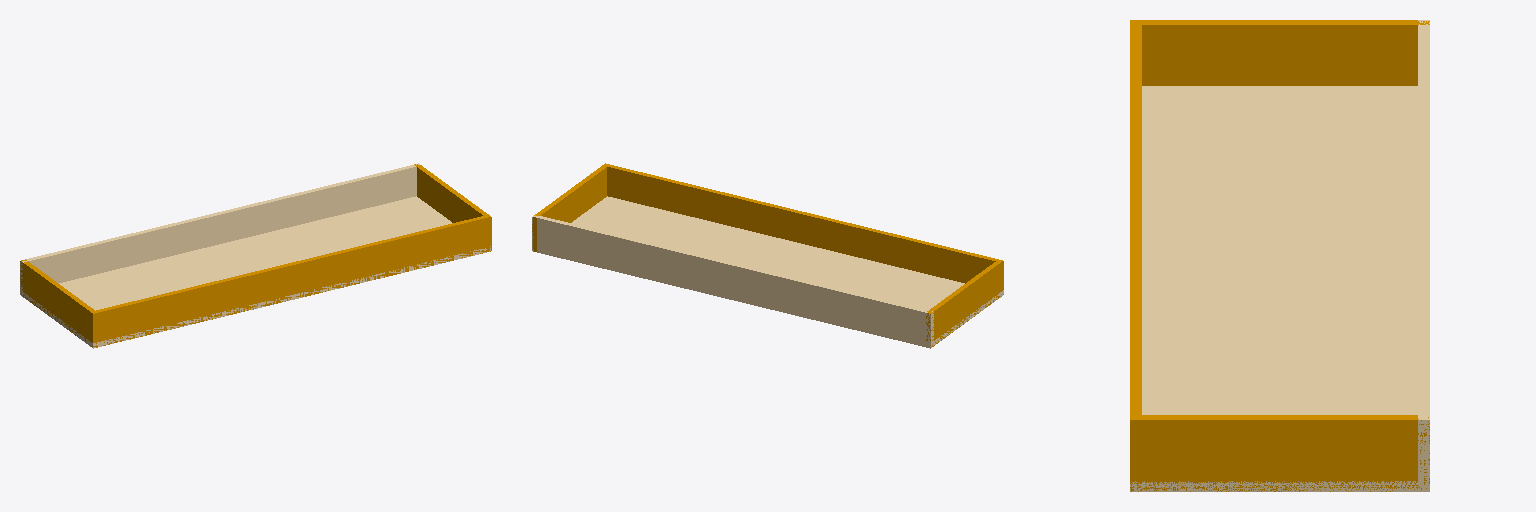
robot.urdf — wooden_box:
<?xml version="1.0"?>
<robot name="wooden_box">

  <material name="white_transparent">
      <color rgba="0.96 0.87 0.70 0.8"/>
  </material>

  <!-- One rigid link made from 5 thin plates -->
  <link name="box_body">

    <!-- ─────────────────────────  inertial  ────────────────────────── -->
    <inertial>
      <!-- origin at geometric centre of outer volume -->
      <origin xyz="0 0 0" rpy="0 0 0"/>
      <mass value="2.0"/>
      <!-- Ixx = 1/12·m·(W²+H²) , etc.  Computed for 1.20×0.38×0.20 m, m=2 kg -->
      <inertia ixx="0.0307" ixy="0" ixz="0"
               iyy="0.2467" iyz="0"
               izz="0.2641"/>
    </inertial>

    <!-- =================  bottom panel  ============================= -->
    <!-- size: 1.20 × 0.38 × 0.015  centred 0.0925 m below main origin -->
    <visual>
      <origin xyz="0 0 -0.0925" rpy="0 0 0"/>
      <geometry><box size="1.20 0.38 0.015"/></geometry>
      <material name="white_transparent"/>
    </visual>
    <collision>
      <origin xyz="0 0 -0.0925" rpy="0 0 0"/>
      <geometry><box size="1.20 0.38 0.015"/></geometry>
    </collision>

    <!-- ===============  front wall ( +Y )  ========================== -->
    <visual>
      <origin xyz="0  0.1825 -0.05" rpy="0 0 0"/>
      <geometry><box size="1.20 0.015 0.10"/></geometry>
      <material name="white_transparent"/>
    </visual>
    <collision>
      <origin xyz="0  0.1825 -0.05" rpy="0 0 0"/>
      <geometry><box size="1.20 0.015 0.10"/></geometry>
    </collision>

    <!-- ===============  back wall ( –Y )  =========================== -->
    <visual>
      <origin xyz="0 -0.1825 -0.05" rpy="0 0 0"/>
      <geometry><box size="1.20 0.015 0.10"/></geometry>
    </visual>
    <collision>
      <origin xyz="0 -0.1825 -0.05" rpy="0 0 0"/>
      <geometry><box size="1.20 0.015 0.10"/></geometry>
    </collision>

    <!-- ===============  left wall ( –X )  =========================== -->
    <visual>
      <origin xyz="-0.5925 0 -0.05" rpy="0 0 0"/>
      <geometry><box size="0.015 0.38 0.10"/></geometry>
    </visual>
    <collision>
      <origin xyz="-0.5925 0 -0.05" rpy="0 0 0"/>
      <geometry><box size="0.015 0.38 0.10"/></geometry>
    </collision>

    <!-- ===============  right wall ( +X )  ========================== -->
    <visual>
      <origin xyz="0.5925 0 -0.05" rpy="0 0 0"/>
      <geometry><box size="0.015 0.38 0.10"/></geometry>
    </visual>
    <collision>
      <origin xyz="0.5925 0 -0.05" rpy="0 0 0"/>
      <geometry><box size="0.015 0.38 0.10"/></geometry>
    </collision>

  </link>

</robot>

--- What the picture shows (computed from the rendered views, not written in the file) ---
Views: 3 orthographic renders of the robot side by side, from view 1: azimuth 30°, elevation 25°; view 2: azimuth 150°, elevation 25°; view 3: azimuth 270°, elevation 25°.
Robot: wooden_box — 1 links, 0 joints (none); root link box_body; default pose: every joint at zero.
Links seen in each view (by area): view 1: box_body; view 2: box_body; view 3: box_body.
Boxes of the visible links, left/top/right/bottom form: box_body: left=20, top=163, right=491, bottom=348; box_body: left=532, top=163, right=1003, bottom=348; box_body: left=1130, top=20, right=1429, bottom=491.
Bounding box of the posed robot: 1.2 × 0.38 × 0.1 m (x, y, z).
Geometry: primitives only (box / cylinder / sphere), no mesh files.
